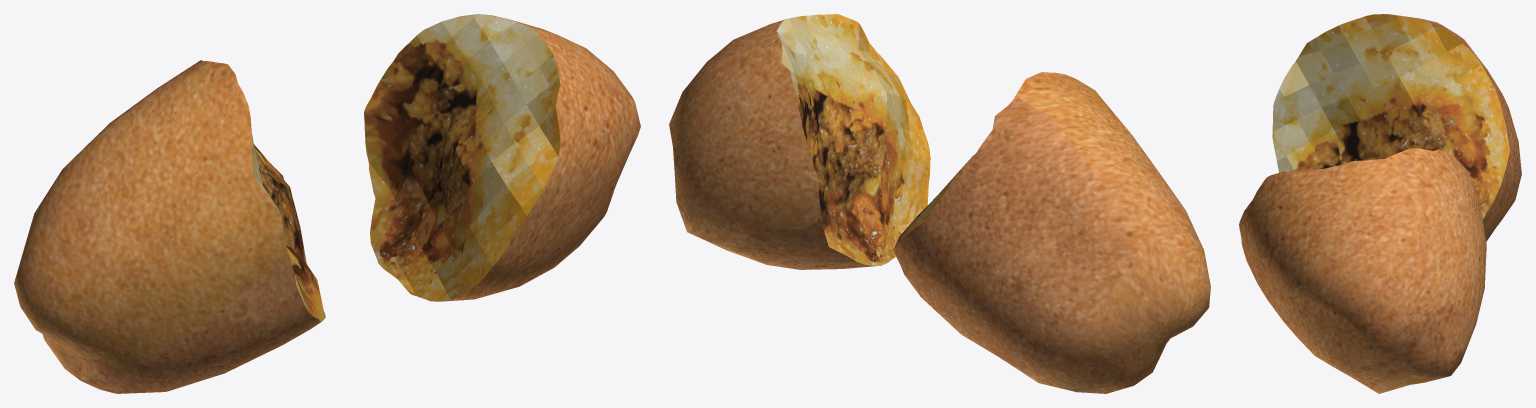
The model's file is luti5.fbx.
3 views of the same model, side by side, from view 1: azimuth 30°, elevation 25°; view 2: azimuth 150°, elevation 25°; view 3: azimuth 270°, elevation 25° (orthographic). The views are drawn at different scales.
Visible parts, largest first — view 1: luti5; view 2: luti5; view 3: luti5.
Part boxes in pixels (x1=…): luti5: x1=14, y1=14, x2=640, y2=393; luti5: x1=669, y1=14, x2=1210, y2=393; luti5: x1=1239, y1=14, x2=1521, y2=393.
Bounding box in the file's own units: 14.86 × 7.36 × 6.77.
